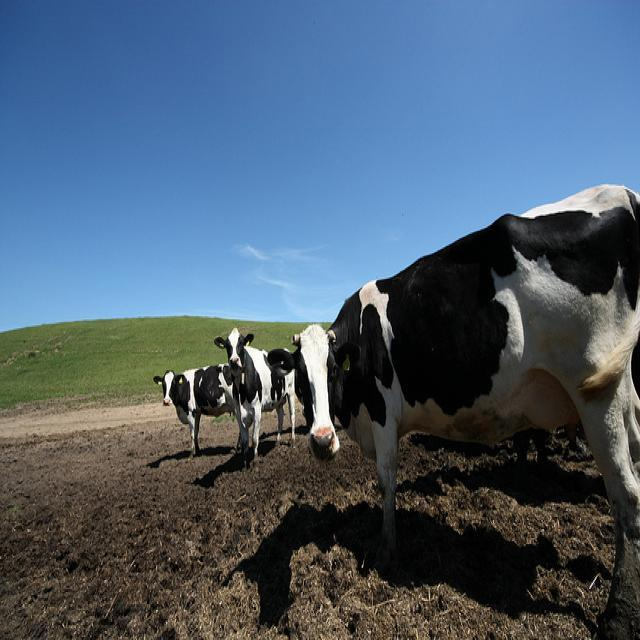cow: (267, 181, 639, 631), (212, 322, 296, 471), (148, 360, 245, 454)
